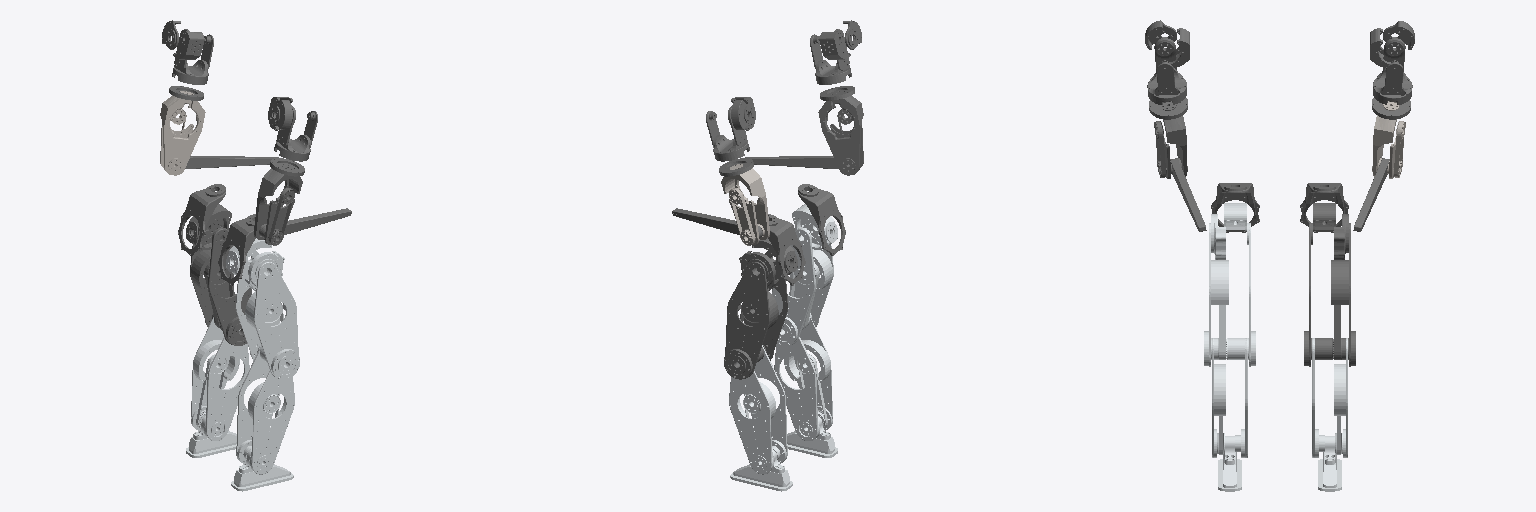
--- Facts derived from the render (not from the file) ---
3 views of the same robot in one strip: view 1: azimuth 30°, elevation 25°; view 2: azimuth 150°, elevation 25°; view 3: azimuth 270°, elevation 25° (orthographic).
Model yihumanoid with 20 links and 19 joints (10 revolute, 8 fixed, 1 floating), rooted at world, posed all joints at 0.
Links seen in each view (by area): view 1: Rleg_thigh_link, Rleg_calf_link, Lleg_calf_link, Lleg_thigh_link, L_upperarm_link, R_upperarm_link, R_shoulder_link, L_shoulder_link, Lleg_yaw_link, Rleg_yaw_link, Rleg_roll_link, Rleg_ankle_link (+6 smaller); view 2: Lleg_thigh_link, Lleg_calf_link, Rleg_calf_link, Rleg_thigh_link, R_upperarm_link, L_upperarm_link, L_shoulder_link, R_shoulder_link, Rleg_yaw_link, Lleg_yaw_link, Lleg_roll_link, Lleg_ankle_link (+6 smaller); view 3: Lleg_thigh_link, Rleg_thigh_link, R_shoulder_link, L_shoulder_link, Lleg_calf_link, Rleg_calf_link, L_upperarm_link, R_upperarm_link, Lleg_roll_link, Rleg_roll_link, Lleg_ankle_link, Rleg_ankle_link (+6 smaller).
Boxes of the visible links, x1,y1,x2,y2 form: Rleg_thigh_link: [236, 251, 299, 379]; Rleg_calf_link: [236, 345, 294, 474]; Lleg_calf_link: [191, 317, 249, 440]; Lleg_thigh_link: [190, 227, 251, 345]; L_upperarm_link: [160, 91, 205, 175]; R_upperarm_link: [254, 164, 302, 245]; R_shoulder_link: [270, 106, 317, 176]; L_shoulder_link: [169, 29, 213, 100]; Lleg_yaw_link: [178, 184, 225, 255]; Rleg_yaw_link: [218, 214, 255, 285]; Rleg_roll_link: [226, 238, 284, 290]; Rleg_ankle_link: [231, 449, 293, 491]; Lleg_thigh_link: [724, 251, 787, 379]; Lleg_calf_link: [729, 345, 787, 474]; Rleg_calf_link: [774, 317, 832, 440]; Rleg_thigh_link: [772, 227, 833, 345]; R_upperarm_link: [818, 91, 863, 175]; L_upperarm_link: [721, 164, 769, 245]; L_shoulder_link: [706, 106, 753, 176]; R_shoulder_link: [810, 29, 854, 100]; Rleg_yaw_link: [798, 184, 845, 255]; Lleg_yaw_link: [768, 214, 805, 285]; Lleg_roll_link: [739, 238, 797, 290]; Lleg_ankle_link: [730, 449, 792, 491]; Lleg_thigh_link: [1304, 223, 1355, 366]; Rleg_thigh_link: [1204, 223, 1255, 366]; R_shoulder_link: [1147, 38, 1187, 119]; L_shoulder_link: [1372, 38, 1412, 119]; Lleg_calf_link: [1312, 338, 1347, 457]; Rleg_calf_link: [1212, 338, 1247, 457]; L_upperarm_link: [1372, 101, 1405, 178]; R_upperarm_link: [1154, 101, 1187, 178]; Lleg_roll_link: [1313, 203, 1348, 259]; Rleg_roll_link: [1211, 203, 1246, 259]; Lleg_ankle_link: [1318, 433, 1342, 491]; Rleg_ankle_link: [1217, 433, 1241, 491].
Size in the robot's own frame: 0.2812 by 0.544 by 1 metres.
18 mesh visuals loaded from 19 distinct referenced files (18 binary STL); not drawn: 1 (reference not matched to a file when rendering).

robot.urdf — yihumanoid:
<?xml version="1.0" encoding="utf-8"?>
<!-- This URDF was automatically created by SolidWorks to URDF Exporter! Originally created by Stephen Brawner ([email redacted]) 
     Commit Version: 1.6.0-4-g7f85cfe  Build Version: 1.6.7995.38578
     For more information, please see http://wiki.ros.org/sw_urdf_exporter -->
<robot
  name="yihumanoid">
  <mujoco>
    <compiler
    meshdir=""
    balanceinertia="true"
    discardvisual="false"/>
  </mujoco>
  
  <link name="world"></link>
  <joint name="floating_base_joint" type="floating">
    <parent link="world"/>
    <child link="base_link"/>
  </joint>
  
  <link
    name="base_link">
    <inertial>
      <origin
        xyz="-0.00126080300353612 0.00519236785681992 0.138659276442195"
        rpy="0 0 0" />
      <mass
        value="7.440292" />
      <inertia
        ixx="0.167047"
        ixy="-0.000223"
        ixz="-0.001843"
        iyy="0.095709"
        iyz="-0.000293"
        izz="0.091609" />
    </inertial>
    <visual>
      <origin
        xyz="0 0 0"
        rpy="0 0 0" />
      <geometry>
        <mesh
          filename="../meshes/base_link.STL" />
      </geometry>
      <material
        name="">
        <color
          rgba="0.752941176470588 0.752941176470588 0.752941176470588 1" />
      </material>
    </visual>
    <collision>
      <origin
        xyz="0 0 0.125"
        rpy="0 0 0" />
      <geometry>
        <box size="0.08 0.2 0.25"/>
      </geometry>
    </collision>
    <!-- <collision>
      <origin
        xyz="0 0 0"
        rpy="0 0 0" />
      <geometry>
        <mesh
          filename="../meshes/base_link.STL" />
      </geometry>
    </collision> -->
  </link>
  <link
    name="Lleg_yaw_link">
    <inertial>
      <origin
        xyz="-8.17688996189447E-06 -0.064211556767111 0.0468216603006138"
        rpy="0 0 0" />
      <mass
        value="1.077699" />
      <inertia
        ixx="0.001808"
        ixy="0.000005"
        ixz="-0.000509"
        iyy="0.001818"
        iyz="-0.000002"
        izz="0.001489" />
    </inertial>
    <visual>
      <origin
        xyz="0 0 0"
        rpy="0 0 0" />
      <geometry>
        <mesh
          filename="../meshes/Lleg_yaw_link.STL" />
      </geometry>
      <material
        name="">
        <color
          rgba="0.498039215686275 0.498039215686275 0.498039215686275 1" />
      </material>
    </visual>

    <!-- <collision>
      <origin
        xyz="0 0 0"
        rpy="0 0 0" />
      <geometry>
        <mesh
          filename="../meshes/Lleg_yaw_link.STL" />
      </geometry>
    </collision> -->
  </link>
  <joint
    name="Lleg_yaw_joint"
    type="revolute">
    <origin
      xyz="-0.00043412 0.09 0.002462"
      rpy="2.9671 0 1.5708" />
    <parent
      link="base_link" />
    <child
      link="Lleg_yaw_link" />
    <axis
      xyz="0 0 -1" />
    <limit
      lower="-0.6"
      upper="0.5"
      effort="50"
      velocity="20" />
  </joint>
  <link
    name="Lleg_roll_link">
    <inertial>
      <origin
        xyz="0.0141389646553413 0.00937421142592759 0.0522179453911727"
        rpy="0 0 0" />
      <mass
        value="1.194276" />
      <inertia
        ixx="0.001435"
        ixy="-0.000029"
        ixz="0.000050"
        iyy="0.001813"
        iyz="0.000049"
        izz="0.001417" />
    </inertial>
    <visual>
      <origin
        xyz="0 0 0"
        rpy="0 0 0" />
      <geometry>
        <mesh
          filename="../meshes/Lleg_roll_link.STL" />
      </geometry>
      <material
        name="">
        <color
          rgba="0.498039215686275 0.498039215686275 0.498039215686275 1" />
      </material>
    </visual>
    <!-- <collision>
      <origin
        xyz="0 0 0"
        rpy="0 0 0" />
      <geometry>
        <mesh
          filename="../meshes/Lleg_roll_link.STL" />
      </geometry>
    </collision> -->
  </link>
  <joint
    name="Lleg_roll_joint"
    type="revolute">
    <origin
      xyz="0 -0.076544 0.078561"
      rpy="-1.1345 0 0" />
    <parent
      link="Lleg_yaw_link" />
    <child
      link="Lleg_roll_link" />
    <axis
      xyz="0 0 -1" />
    <limit
      lower="-0.7"
      upper="0.3"
      effort="50"
      velocity="20" />
  </joint>
  <link
    name="Lleg_thigh_link">
    <inertial>
      <origin
        xyz="0.0279415919339914 -0.150672650561279 -0.0345527951602002"
        rpy="0 0 0" />
      <mass
        value="1.843228" />
      <inertia
        ixx="0.009104"
        ixy="-0.000065"
        ixz="0.001177"
        iyy="0.008740"
        iyz="0.000368"
        izz="0.003093" />
    </inertial>
    <visual>
      <origin
        xyz="0 0 0"
        rpy="0 0 0" />
      <geometry>
        <mesh
          filename="../meshes/Lleg_thigh_link.STL" />
      </geometry>
      <material
        name="">
        <color
          rgba="0.498039215686275 0.498039215686275 0.498039215686275 1" />
      </material>
    </visual>
    <collision>
      <origin
        xyz="0 -0.1 -0.025"
        rpy="0 0 0.3" />
      <geometry>
        <box size="0.05 0.2 0.05"/>
      </geometry>
    </collision>
    <!-- <collision>
      <origin
        xyz="0 0 0"
        rpy="0 0 0" />
      <geometry>
        <mesh
          filename="../meshes/Lleg_thigh_link.STL" />
      </geometry>
    </collision> -->
  </link>
  <joint
    name="Lleg_thigh_joint"
    type="revolute">
    <origin
      xyz="-0.02245 0 0.063"
      rpy="-1.5708 -1.309 1.5708" />
    <parent
      link="Lleg_roll_link" />
    <child
      link="Lleg_thigh_link" />
    <axis
      xyz="0 0 -1" />
    <limit
      lower="-1.5"
      upper="0.7"
      effort="50"
      velocity="20" />
  </joint>
  <link
    name="Lleg_calf_link">
    <inertial>
      <origin
        xyz="-0.0281260430187408 -0.13027617238633 -0.0495826627377445"
        rpy="0 0 0" />
      <mass
        value="1.471252" />
      <inertia
        ixx="0.005175"
        ixy="-0.000009"
        ixz="-0.000733"
        iyy="0.005440"
        iyz="-0.000013"
        izz="0.002001" />
    </inertial>
    <visual>
      <origin
        xyz="0 0 0"
        rpy="0 0 0" />
      <geometry>
        <mesh
          filename="../meshes/Lleg_calf_link.STL" />
      </geometry>
      <material
        name="">
        <color
          rgba="0.898039215686275 0.917647058823529 0.929411764705882 1" />
      </material>
    </visual>
    <collision>
      <origin
        xyz="0 -0.1 -0.045"
        rpy="0 0 -0.25" />
      <geometry>
        <box size="0.05 0.15 0.05"/>
      </geometry>
    </collision>
    <!-- <collision>
      <origin
        xyz="0 0 0"
        rpy="0 0 0" />
      <geometry>
        <mesh
          filename="../meshes/Lleg_calf_link.STL" />
      </geometry>
    </collision> -->
  </link>
  <joint
    name="Lleg_calf_joint"
    type="revolute">
    <origin
      xyz="0.04377 -0.23597 0.0185"
      rpy="0 0 0" />
    <parent
      link="Lleg_thigh_link" />
    <child
      link="Lleg_calf_link" />
    <axis
      xyz="0 0 1" />
    <limit
      lower="-1.4"
      upper="0.4"
      effort="50"
      velocity="20" />
  </joint>
  <link
    name="Lleg_ankle_link">
    <inertial>
      <origin
        xyz="-0.00910454747072841 0.0357833843092447 -0.0241636670294526"
        rpy="0 0 0" />
      <mass
        value="0.369213" />
      <inertia
        ixx="0.000274"
        ixy="0.000007"
        ixz="0.000071"
        iyy="0.000596"
        iyz="-0.000029"
        izz="0.000418" />
    </inertial>
    <visual>
      <origin
        xyz="0 0 0"
        rpy="0 0 0" />
      <geometry>
        <mesh
          filename="../meshes/Lleg_ankle_link.STL" />
      </geometry>
      <material
        name="">
        <color
          rgba="0.898039215686275 0.917647058823529 0.929411764705882 1" />
      </material>
    </visual>
    <collision>
      <origin
        xyz="0 0 0"
        rpy="0 0 0" />
      <geometry>
        <mesh
          filename="../meshes/Lleg_ankle_link.STL" />
      </geometry>
    </collision>
  </link>
  <joint
    name="Lleg_ankle_joint"
    type="revolute">
    <origin
      xyz="-0.050647 -0.2346 -0.03"
      rpy="0 0 -3.1416" />
    <parent
      link="Lleg_calf_link" />
    <child
      link="Lleg_ankle_link" />
    <axis
      xyz="0 0 -1" />
    <limit
      lower="-0.7"
      upper="1.0"
      effort="50"
      velocity="20" />
  </joint>
  <link
    name="Rleg_yaw_link">
    <inertial>
      <origin
        xyz="7.78843179916056E-06 -0.0642308817681135 0.0468631034282553"
        rpy="0 0 0" />
      <mass
        value="1.077699" />
      <inertia
        ixx="0.001809"
        ixy="-0.000006"
        ixz="-0.000512"
        iyy="0.001820"
        iyz="0.000001"
        izz="0.001491" />
    </inertial>
    <visual>
      <origin
        xyz="0 0 0"
        rpy="0 0 0" />
      <geometry>
        <mesh
          filename="../meshes/Rleg_yaw_link.STL" />
      </geometry>
      <material
        name="">
        <color
          rgba="0.498039215686275 0.498039215686275 0.498039215686275 1" />
      </material>
    </visual>
    <!-- <collision>
      <origin
        xyz="0 0 0"
        rpy="0 0 0" />
      <geometry>
        <mesh
          filename="../meshes/Rleg_yaw_link.STL" />
      </geometry>
    </collision> -->
  </link>
  <joint
    name="Rleg_yaw_joint"
    type="revolute">
    <origin
      xyz="-0.00043412 -0.09 0.002462"
      rpy="2.9671 0 1.5708" />
    <parent
      link="base_link" />
    <child
      link="Rleg_yaw_link" />
    <axis
      xyz="0 0 -1" />
    <limit
      lower="-0.5"
      upper="0.6"
      effort="50"
      velocity="20" />
  </joint>
  <link
    name="Rleg_roll_link">
    <inertial>
      <origin
        xyz="-0.0142095904428153 0.0094066776770966 0.0522136767245517"
        rpy="0 0 0" />
      <mass
        value="1.194276" />
      <inertia
        ixx="0.001434"
        ixy="0.000028"
        ixz="0.000051"
        iyy="0.001812"
        iyz="-0.000047"
        izz="0.001416" />
    </inertial>
    <visual>
      <origin
        xyz="0 0 0"
        rpy="0 0 0" />
      <geometry>
        <mesh
          filename="../meshes/Rleg_roll_link.STL" />
      </geometry>
      <material
        name="">
        <color
          rgba="0.898039215686275 0.917647058823529 0.929411764705882 1" />
      </material>
    </visual>
    <!-- <collision>
      <origin
        xyz="0 0 0"
        rpy="0 0 0" />
      <geometry>
        <mesh
          filename="../meshes/Rleg_roll_link.STL" />
      </geometry>
    </collision> -->
  </link>
  <joint
    name="Rleg_roll_joint"
    type="revolute">
    <origin
      xyz="0 -0.076544 0.078561"
      rpy="-1.1345 0 0" />
    <parent
      link="Rleg_yaw_link" />
    <child
      link="Rleg_roll_link" />
    <axis
      xyz="0 0 -1" />
    <limit
      lower="-0.3"
      upper="0.7"
      effort="50"
      velocity="20" />
  </joint>
  <link
    name="Rleg_thigh_link">
    <inertial>
      <origin
        xyz="-0.0279487895479656 -0.150662193018132 -0.0345527954308939"
        rpy="0 0 0" />
      <mass
        value="1.843228" />
      <inertia
        ixx="0.009107"
        ixy="0.000064"
        ixz="0.001175"
        iyy="0.008743"
        iyz="-0.000371"
        izz="0.003093" />
    </inertial>
    <visual>
      <origin
        xyz="0 0 0"
        rpy="0 0 0" />
      <geometry>
        <mesh
          filename="../meshes/Rleg_thigh_link.STL" />
      </geometry>
      <material
        name="">
        <color
          rgba="0.898039215686275 0.917647058823529 0.929411764705882 1" />
      </material>
    </visual>
    <collision>
      <origin
        xyz="0 -0.1 -0.025"
        rpy="0 0 -0.3" />
      <geometry>
        <box size="0.05 0.2 0.05"/>
      </geometry>
    </collision>
    <!-- <collision>
      <origin
        xyz="0 0 0"
        rpy="0 0 0" />
      <geometry>
        <mesh
          filename="../meshes/Rleg_thigh_link.STL" />
      </geometry>
    </collision> -->
  </link>
  <joint
    name="Rleg_thigh_joint"
    type="revolute">
    <origin
      xyz="0.02245 0 0.063"
      rpy="-1.5708 1.309 -1.5708" />
    <parent
      link="Rleg_roll_link" />
    <child
      link="Rleg_thigh_link" />
    <axis
      xyz="0 0 -1" />
    <limit
      lower="-0.7"
      upper="1.5"
      effort="50"
      velocity="20" />
  </joint>
  <link
    name="Rleg_calf_link">
    <inertial>
      <origin
        xyz="0.0279698273005394 -0.130247734340621 -0.0495867036802772"
        rpy="0 0 0" />
      <mass
        value="1.471252" />
      <inertia
        ixx="0.005179"
        ixy="-0.000007"
        ixz="-0.000745"
        iyy="0.005449"
        iyz="0.000010"
        izz="0.002006" />
    </inertial>
    <visual>
      <origin
        xyz="0 0 0"
        rpy="0 0 0" />
      <geometry>
        <mesh
          filename="../meshes/Rleg_calf_link.STL" />
      </geometry>
      <material
        name="">
        <color
          rgba="0.898039215686275 0.917647058823529 0.929411764705882 1" />
      </material>
    </visual>
    <collision>
      <origin
        xyz="0 -0.1 -0.045"
        rpy="0 0 0.25" />
      <geometry>
        <box size="0.05 0.15 0.05"/>
      </geometry>
    </collision>
    <!-- <collision>
      <origin
        xyz="0 0 0"
        rpy="0 0 0" />
      <geometry>
        <mesh
          filename="../meshes/Rleg_calf_link.STL" />
      </geometry>
    </collision> -->
  </link>
  <joint
    name="Rleg_calf_joint"
    type="revolute">
    <origin
      xyz="-0.04377 -0.23597 0.0185"
      rpy="0 0 0" />
    <parent
      link="Rleg_thigh_link" />
    <child
      link="Rleg_calf_link" />
    <axis
      xyz="0 0 1" />
    <limit
      lower="-0.4"
      upper="1.4"
      effort="50"
      velocity="20" />
  </joint>
  <link
    name="Rleg_ankle_link">
    <inertial>
      <origin
        xyz="-0.00910455522653668 -0.0357833843056939 -0.0241636479615162"
        rpy="0 0 0" />
      <mass
        value="0.369213" />
      <inertia
        ixx="0.000274"
        ixy="-0.000007"
        ixz="0.000071"
        iyy="0.000596"
        iyz="0.000029"
        izz="0.000418" />
    </inertial>
    <visual>
      <origin
        xyz="0 0 0"
        rpy="0 0 0" />
      <geometry>
        <mesh
          filename="../meshes/Rleg_ankle_link.STL" />
      </geometry>
      <material
        name="">
        <color
          rgba="0.898039215686275 0.917647058823529 0.929411764705882 1" />
      </material>
    </visual>
    <collision>
      <origin
        xyz="0 0 0"
        rpy="0 0 0" />
      <geometry>
        <mesh
          filename="../meshes/Rleg_ankle_link.STL" />
      </geometry>
    </collision>
  </link>
  <joint
    name="Rleg_ankle_joint"
    type="revolute">
    <origin
      xyz="0.050647 -0.2346 -0.03"
      rpy="0 0 0" />
    <parent
      link="Rleg_calf_link" />
    <child
      link="Rleg_ankle_link" />
    <axis
      xyz="0 0 -1" />
    <limit
      lower="-1.0"
      upper="0.7"
      effort="50"
      velocity="20" />
  </joint>
  <link
    name="L_shoulder_pitch_link">
    <inertial>
      <origin
        xyz="-0.00982489856197517 -0.00157768401366504 0.0437737049055766"
        rpy="0 0 0" />
      <mass
        value="0.456584" />
      <inertia
        ixx="0.000453"
        ixy="-0.000018"
        ixz="-0.000022"
        iyy="0.000318"
        iyz="0.000010"
        izz="0.000362" />
    </inertial>
    <visual>
      <origin
        xyz="0 0 0"
        rpy="0 0 0" />
      <geometry>
        <mesh
          filename="../meshes/L_shoulder_pitch_link.STL" />
      </geometry>
      <material
        name="">
        <color
          rgba="0.498039215686275 0.498039215686275 0.498039215686275 1" />
      </material>
    </visual>
    <!-- <collision>
      <origin
        xyz="0 0 0"
        rpy="0 0 0" />
      <geometry>
        <mesh
          filename="../meshes/L_shoulder_pitch_link.STL" />
      </geometry>
    </collision> -->
  </link>
  <joint
    name="L_shoulder_pitch_joint"
    type="fixed">
    <origin
      xyz="0.00051277 0.178 0.31483"
      rpy="1.5708 3.14159 -3.1416"/>
    <parent
      link="base_link" />
    <child
      link="L_shoulder_pitch_link" />
    <axis
      xyz="0 0 1" />
    <limit
      lower="-3.14"
      upper="3.14"
      effort="10"
      velocity="31" />
  </joint>
  <link
    name="L_shoulder_link">
    <inertial>
      <origin
        xyz="-0.00477007434893201 0.0826426789923395 -0.0204546625639877"
        rpy="0 0 0" />
      <mass
        value="0.557694" />
      <inertia
        ixx="0.000684"
        ixy="-0.000002"
        ixz="-0.000017"
        iyy="0.000741"
        iyz="-0.000013"
        izz="0.000521" />
    </inertial>
    <visual>
      <origin
        xyz="0 0 0"
        rpy="0 0 0" />
      <geometry>
        <mesh
          filename="../meshes/L_shoulder_link.STL" />
      </geometry>
      <material
        name="">
        <color
          rgba="0.498039215686275 0.498039215686275 0.498039215686275 1" />
      </material>
    </visual>
    <!-- <collision>
      <origin
        xyz="0 0 0"
        rpy="0 0 0" />
      <geometry>
        <mesh
          filename="../meshes/L_shoulder_link.STL" />
      </geometry>
    </collision> -->
  </link>
  <joint
    name="L_shoulder_joint"
    type="fixed">
    <origin
      xyz="0.01342 0.0036189 0.054001"
      rpy="0.26359 -1.5708 0" />
    <parent
      link="L_shoulder_pitch_link" />
    <child
      link="L_shoulder_link" />
    <axis
      xyz="0 0 1" />
    <limit
      lower="-3.14"
      upper="3.14"
      effort="10"
      velocity="31" />
  </joint>
  <link
    name="L_upperarm_link">
    <inertial>
      <origin
        xyz="0.00301727739506008 0.00136259239009621 0.0899413357816341"
        rpy="0 0 0" />
      <mass
        value="0.630412" />
      <inertia
        ixx="0.001241"
        ixy="0.000026"
        ixz="-0.000212"
        iyy="0.001433"
        iyz="-0.000043"
        izz="0.000508" />
    </inertial>
    <visual>
      <origin
        xyz="0 0 0"
        rpy="0 0 0" />
      <geometry>
        <mesh
          filename="../meshes/L_upperarm_link.STL" />
      </geometry>
      <material
        name="">
        <color
          rgba="0.776470588235294 0.756862745098039 0.737254901960784 1" />
      </material>
    </visual>
    <!-- <collision>
      <origin
        xyz="0 0 0"
        rpy="0 0 0" />
      <geometry>
        <mesh
          filename="../meshes/L_upperarm_link.STL" />
      </geometry>
    </collision> -->
  </link>
  <joint
    name="L_upperarm_joint"
    type="fixed">
    <origin
      xyz="-0.0069083 0.1218 -0.0225"
      rpy="1.5708 0.20674 -3.085" />
    <parent
      link="L_shoulder_link" />
    <child
      link="L_upperarm_link" />
    <axis
      xyz="-0.11061 -0.023199 0.99359" />
    <limit
      lower="-3.14"
      upper="3.14"
      effort="10"
      velocity="31" />
  </joint>
  <link
    name="L_elbow_link">
    <inertial>
      <origin
        xyz="0.101235155522532 -0.011655327803684 -0.0230000011766392"
        rpy="0 0 0" />
      <mass
        value="0.108781" />
      <inertia
        ixx="0.000043"
        ixy="0.000122"
        ixz="0.000061"
        iyy="0.000539"
        iyz="-0.000015"
        izz="0.000558" />
    </inertial>
    <visual>
      <origin
        xyz="0 0 0"
        rpy="0 0 0" />
      <geometry>
        <mesh
          filename="../meshes/L_elbow_link.STL" />
      </geometry>
      <material
        name="">
        <color
          rgba="0.498039215686275 0.498039215686275 0.498039215686275 1" />
      </material>
    </visual>
    <!-- <collision>
      <origin
        xyz="0 0 0"
        rpy="0 0 0" />
      <geometry>
        <mesh
          filename="../meshes/L_elbow_link.STL" />
      </geometry>
    </collision> -->
  </link>
  <joint
    name="L_elbow_joint"
    type="fixed">
    <origin
      xyz="0.023935 0.011371 0.166"
      rpy="-1.5708 0.24447 -1.1273" />
    <parent
      link="L_upperarm_link" />
    <child
      link="L_elbow_link" />
    <axis
      xyz="0 0 1" />
    <limit
      lower="-3.14"
      upper="3.14"
      effort="10"
      velocity="31" />
  </joint>
  <link
    name="R_shoulder_pitch_link">
    <inertial>
      <origin
        xyz="0.00989970657106388 -0.00129933287239709 0.0433656579429529"
        rpy="0 0 0" />
      <mass
        value="0.456584" />
      <inertia
        ixx="0.000451"
        ixy="0.000018"
        ixz="-0.000020"
        iyy="0.000311"
        iyz="-0.000009"
        izz="0.000367" />
    </inertial>
    <visual>
      <origin
        xyz="0 0 0"
        rpy="0 0 0" />
      <geometry>
        <mesh
          filename="../meshes/R_shoulder_pitch_link.STL" />
      </geometry>
      <material
        name="">
        <color
          rgba="0.498039215686275 0.498039215686275 0.498039215686275 1" />
      </material>
    </visual>
    <!-- <collision>
      <origin
        xyz="0 0 0"
        rpy="0 0 0" />
      <geometry>
        <mesh
          filename="../meshes/R_shoulder_pitch_link.STL" />
      </geometry>
    </collision> -->
  </link>
  <joint
    name="R_shoulder_pitch_joint"
    type="fixed">
    <origin
      xyz="0.00051306 -0.178 0.31483"
      rpy="1.5708 3.14159 0" />
    <parent
      link="base_link" />
    <child
      link="R_shoulder_pitch_link" />
    <axis
      xyz="0 0 1" />
    <limit
      lower="-3.14"
      upper="3.14"
      effort="10"
      velocity="31" />
  </joint>
  <link
    name="R_shoulder_link">
    <inertial>
      <origin
        xyz="-0.00449154214938763 -0.082660632513602 -0.0205242998956088"
        rpy="0 0 0" />
      <mass
        value="0.557694" />
      <inertia
        ixx="0.000687"
        ixy="-0.000005"
        ixz="-0.000018"
        iyy="0.000738"
        iyz="0.000011"
        izz="0.000521" />
    </inertial>
    <visual>
      <origin
        xyz="0 0 0"
        rpy="0 0 0" />
      <geometry>
        <mesh
          filename="../meshes/R_shoulder_link.STL" />
      </geometry>
      <material
        name="">
        <color
          rgba="0.498039215686275 0.498039215686275 0.498039215686275 1" />
      </material>
    </visual>
    <!-- <collision>
      <origin
        xyz="0 0 0"
        rpy="0 0 0" />
      <geometry>
        <mesh
          filename="../meshes/R_shoulder_link.STL" />
      </geometry>
    </collision> -->
  </link>
  <joint
    name="R_shoulder_joint"
    type="fixed">
    <origin
      xyz="-0.01342 0.0036212 0.053999"
      rpy="2.878 -1.5708 0" />
    <parent
      link="R_shoulder_pitch_link" />
    <child
      link="R_shoulder_link" />
    <axis
      xyz="0 0 1" />
    <limit
      lower="-3.14"
      upper="3.14"
      effort="10"
      velocity="31" />
  </joint>
  <link
    name="R_upperarm_link">
    <inertial>
      <origin
        xyz="-0.00305632007133119 0.00128849460826744 0.0896042542319657"
        rpy="0 0 0" />
      <mass
        value="0.630412" />
      <inertia
        ixx="0.001251"
        ixy="-0.000026"
        ixz="-0.000223"
        iyy="0.001452"
        iyz="0.000044"
        izz="0.000517" />
    </inertial>
    <visual>
      <origin
        xyz="0 0 0"
        rpy="0 0 0" />
      <geometry>
        <mesh
          filename="../meshes/R_upperarm_link.STL" />
      </geometry>
      <material
        name="">
        <color
          rgba="0.498039215686275 0.498039215686275 0.498039215686275 1" />
      </material>
    </visual>
    <!-- <collision>
      <origin
        xyz="0 0 0"
        rpy="0 0 0" />
      <geometry>
        <mesh
          filename="../meshes/R_upperarm_link.STL" />
      </geometry>
    </collision> -->
  </link>
  <joint
    name="R_upperarm_joint"
    type="fixed">
    <origin
      xyz="-0.0069025 -0.12181 -0.022501"
      rpy="1.5708 -0.20674 -0.056631" />
    <parent
      link="R_shoulder_link" />
    <child
      link="R_upperarm_link" />
    <axis
      xyz="0 0 1" />
    <limit
      lower="-3.14"
      upper="3.14"
      effort="10"
      velocity="31" />
  </joint>
  <link
    name="R_elbow_link">
    <inertial>
      <origin
        xyz="-0.10123515552185 -0.0116553278096098 -0.0229999996918827"
        rpy="0 0 0" />
      <mass
        value="0.108781" />
      <inertia
        ixx="0.000043"
        ixy="-0.000122"
        ixz="0.000061"
        iyy="0.000539"
        iyz="0.000015"
        izz="0.000558" />
    </inertial>
    <visual>
      <origin
        xyz="0 0 0"
        rpy="0 0 0" />
      <geometry>
        <mesh
          filename="../meshes/R_elbow_link.STL" />
      </geometry>
      <material
        name="">
        <color
          rgba="0.498039215686275 0.498039215686275 0.498039215686275 1" />
      </material>
    </visual>
    <!-- <collision>
      <origin
        xyz="0 0 0"
        rpy="0 0 0" />
      <geometry>
        <mesh
          filename="../meshes/R_elbow_link.STL" />
      </geometry>
    </collision> -->
  </link>
  <joint
    name="R_elbow_joint"
    type="fixed">
    <origin
      xyz="-0.023938 0.011372 0.166"
      rpy="-1.5708 -0.24447 1.1273" />
    <parent
      link="R_upperarm_link" />
    <child
      link="R_elbow_link" />
    <axis
      xyz="0 0 1" />
    <limit
      lower="-3.14"
      upper="3.14"
      effort="10"
      velocity="31" />
  </joint>
</robot>
